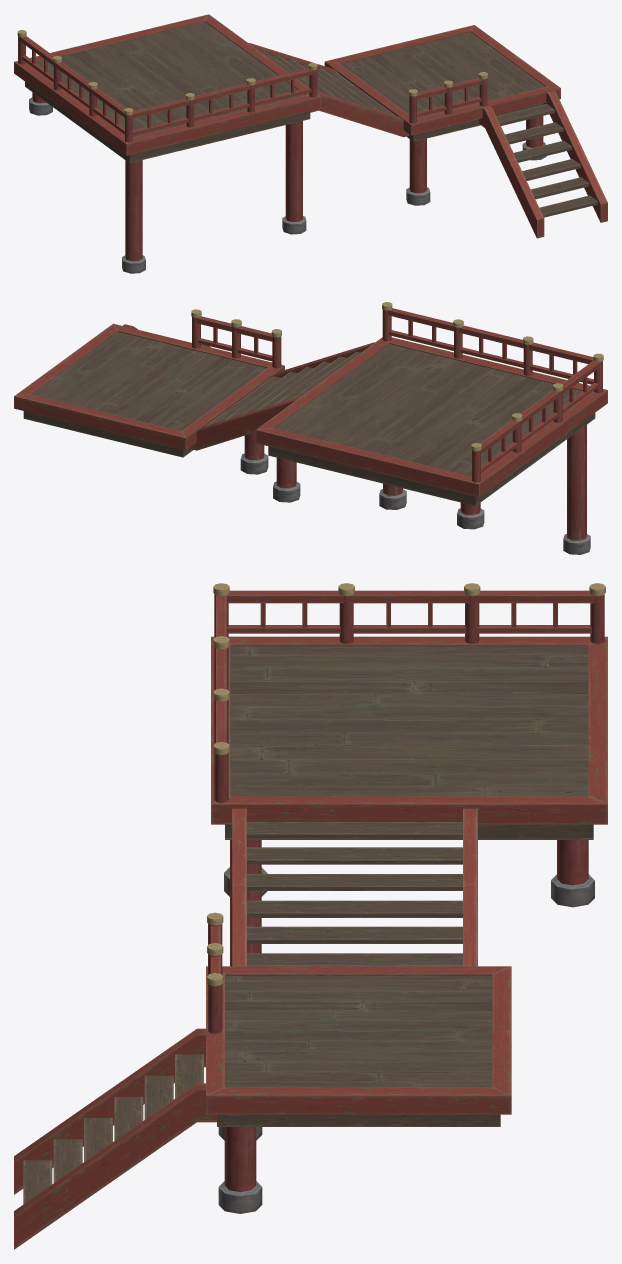
The model's file is Homeworld_Exterior_Common_Thing_Fishpond_H_01_Lod0.fbx.
3 views of the same model, one above another, from view 1: azimuth 30°, elevation 25°; view 2: azimuth 150°, elevation 25°; view 3: azimuth 270°, elevation 25° (orthographic). The views are drawn at different scales.
Visible parts, largest first — view 1: Homeworld_Exterior_Common_Thing_Fishpond_H_01_Lod0; view 2: Homeworld_Exterior_Common_Thing_Fishpond_H_01_Lod0; view 3: Homeworld_Exterior_Common_Thing_Fishpond_H_01_Lod0.
Boxes of the visible parts, x1,y1,x2,y2 form: Homeworld_Exterior_Common_Thing_Fishpond_H_01_Lod0: [14, 14, 607, 273]; Homeworld_Exterior_Common_Thing_Fishpond_H_01_Lod0: [14, 302, 607, 554]; Homeworld_Exterior_Common_Thing_Fishpond_H_01_Lod0: [14, 583, 607, 1249].
Bounding box in the file's own units: 8.84 × 3.33 × 5.95.
